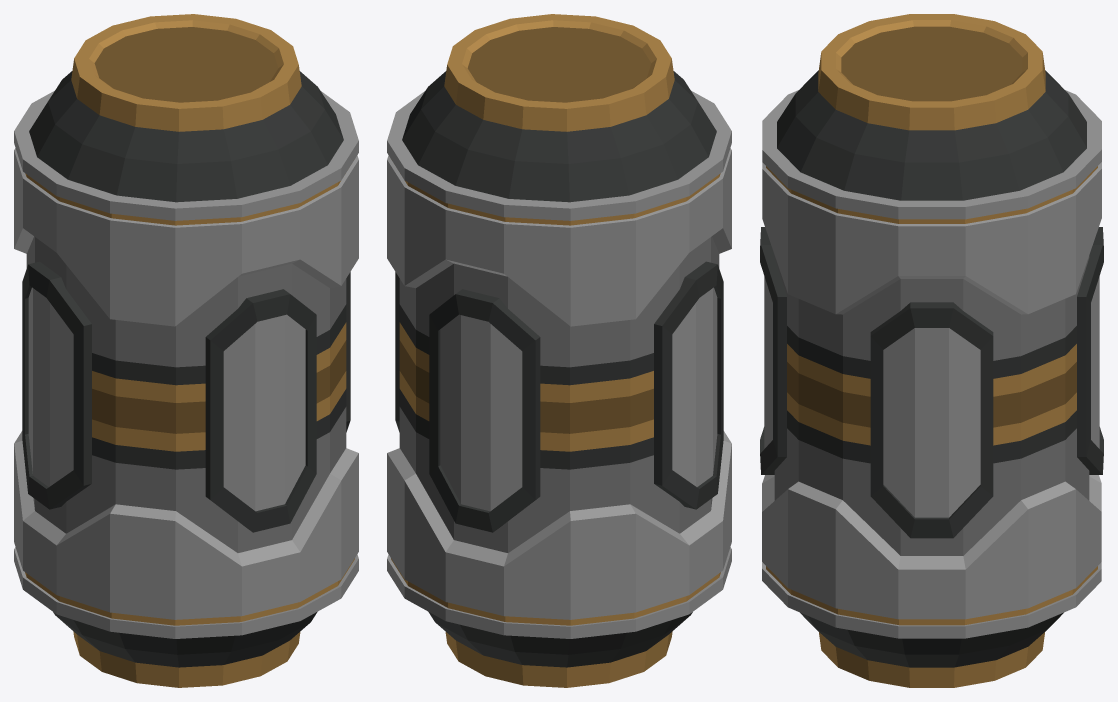
File: quaternius-modular-sci-fi-props-capsule.glb
3 views of the same model, side by side, from view 1: azimuth 30°, elevation 25°; view 2: azimuth 150°, elevation 25°; view 3: azimuth 270°, elevation 25° (orthographic).
Visible parts, largest first — view 1: Props_Capsule; view 2: Props_Capsule; view 3: Props_Capsule.
Part boxes in pixels (left/top/right/bottom): Props_Capsule: left=14, top=14, right=358, bottom=687; Props_Capsule: left=387, top=14, right=731, bottom=687; Props_Capsule: left=760, top=14, right=1103, bottom=687.
Size of the model in its own units: 0.8694 by 1.62 by 0.8694.
1 material, 1 textured.
